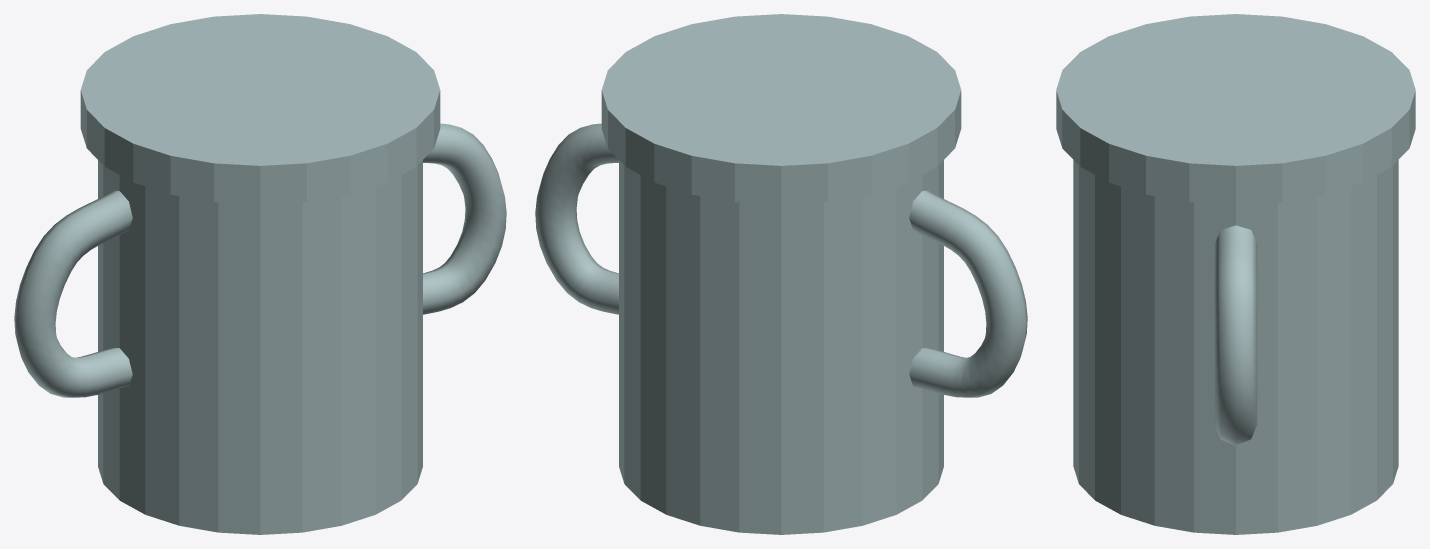
The model's file is milk_can.glb.
3 renders of one model, left to right at view 1: azimuth 30°, elevation 25°; view 2: azimuth 150°, elevation 25°; view 3: azimuth 270°, elevation 25°, orthographic.
Visible parts, largest first — view 1: MilkCan, Rim, Handle, Handle.001; view 2: MilkCan, Rim, Handle, Handle.001; view 3: MilkCan, Rim, Handle.001.
Boxes of the visible parts, x1=… form: MilkCan: x1=98, y1=160, x2=422, y2=534; Rim: x1=80, y1=14, x2=440, y2=204; Handle: x1=14, y1=190, x2=132, y2=397; Handle.001: x1=423, y1=123, x2=506, y2=314; MilkCan: x1=619, y1=160, x2=943, y2=534; Rim: x1=601, y1=14, x2=961, y2=204; Handle: x1=909, y1=190, x2=1027, y2=397; Handle.001: x1=535, y1=123, x2=618, y2=314; MilkCan: x1=1073, y1=160, x2=1398, y2=534; Rim: x1=1056, y1=14, x2=1415, y2=204; Handle.001: x1=1214, y1=225, x2=1257, y2=445.
Bounding box in the file's own units: 0.6584 × 0.485 × 0.42.
